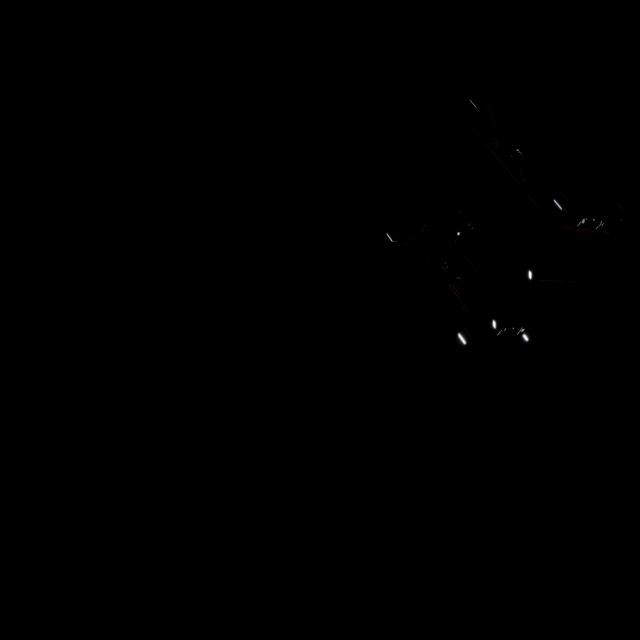satellite: (360, 88, 627, 352)
